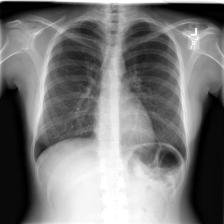normal: (31, 12, 192, 176)
